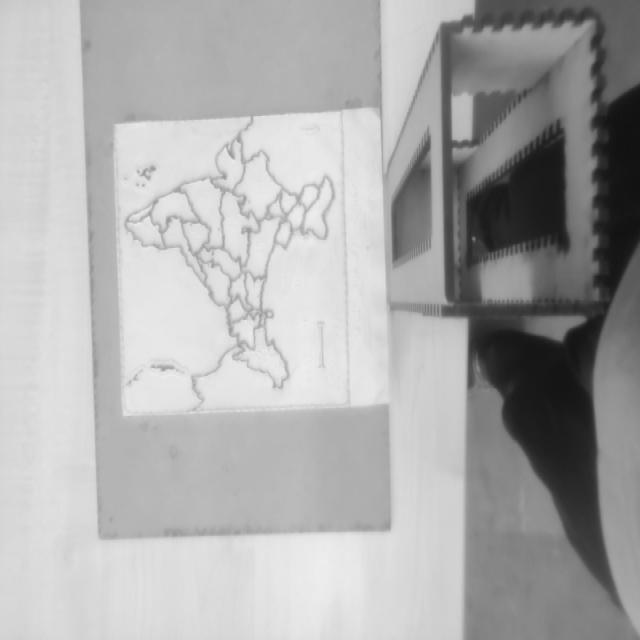map: (115, 111, 349, 415)
